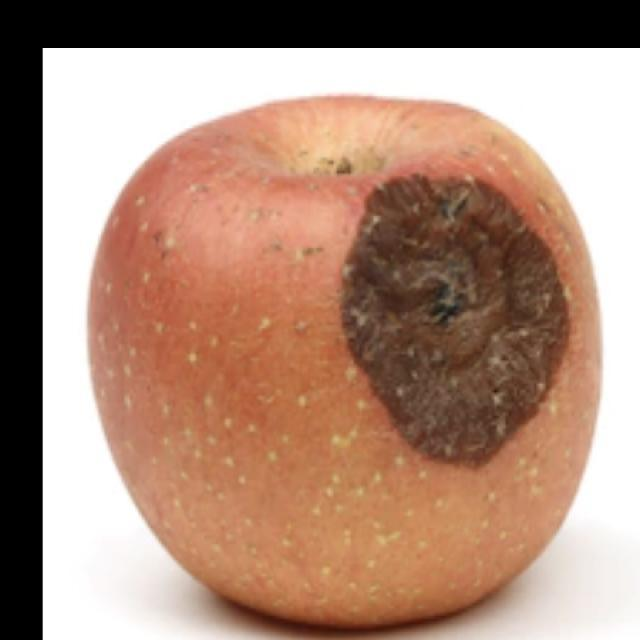Rotten: (87, 90, 605, 628)
